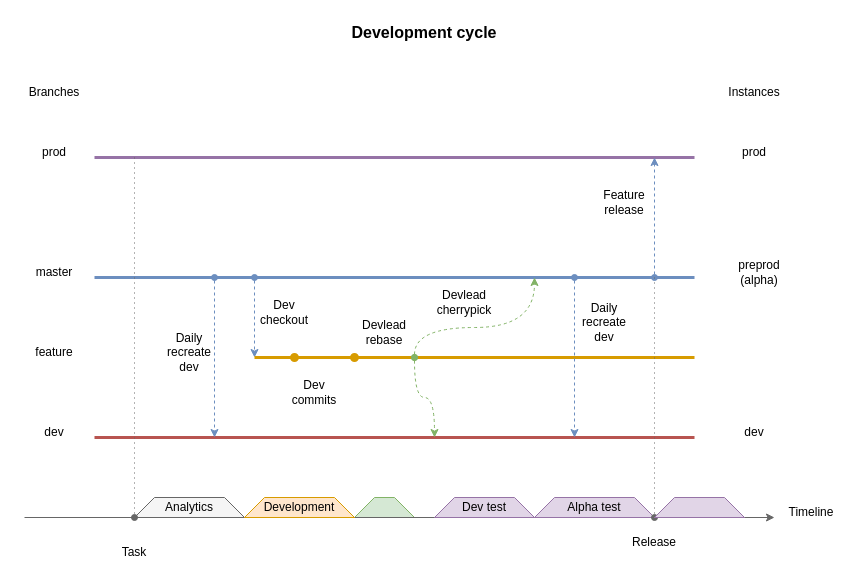
The diagram is 859 pixels wide and 584 high, and some of its shapes have lost their labels. Each missing label, with the centre of its shape:
"CR" belongs at point 384,507.
"Prod test" belongs at point 699,507.
